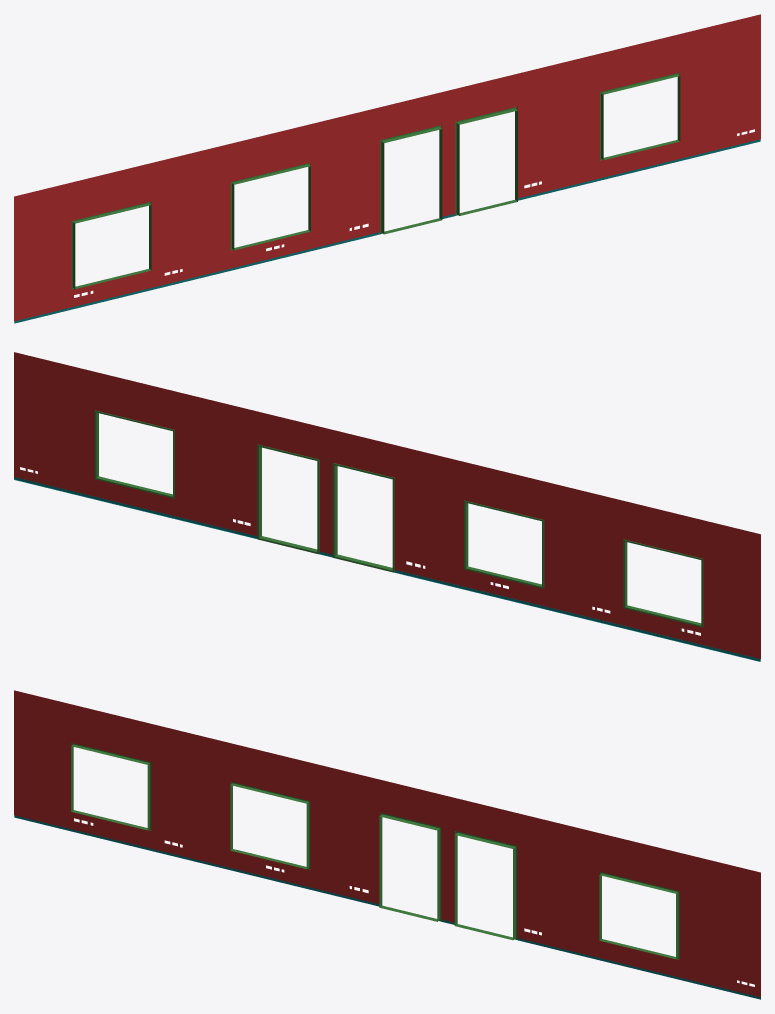
File: SM_Wall_01.fbx
3 renders of one model, top to bottom at view 1: azimuth 30°, elevation 25°; view 2: azimuth 150°, elevation 25°; view 3: azimuth 330°, elevation 25°, orthographic.
Parts seen in each view (by area): view 1: SM_Wall_01; view 2: SM_Wall_01; view 3: SM_Wall_01.
Part boxes in pixels (x1,y1,x2,y2): SM_Wall_01: [14, 14, 760, 323]; SM_Wall_01: [14, 352, 760, 661]; SM_Wall_01: [14, 690, 760, 999].
Bounding box in the file's own units: 1876 × 306 × 12.85.
